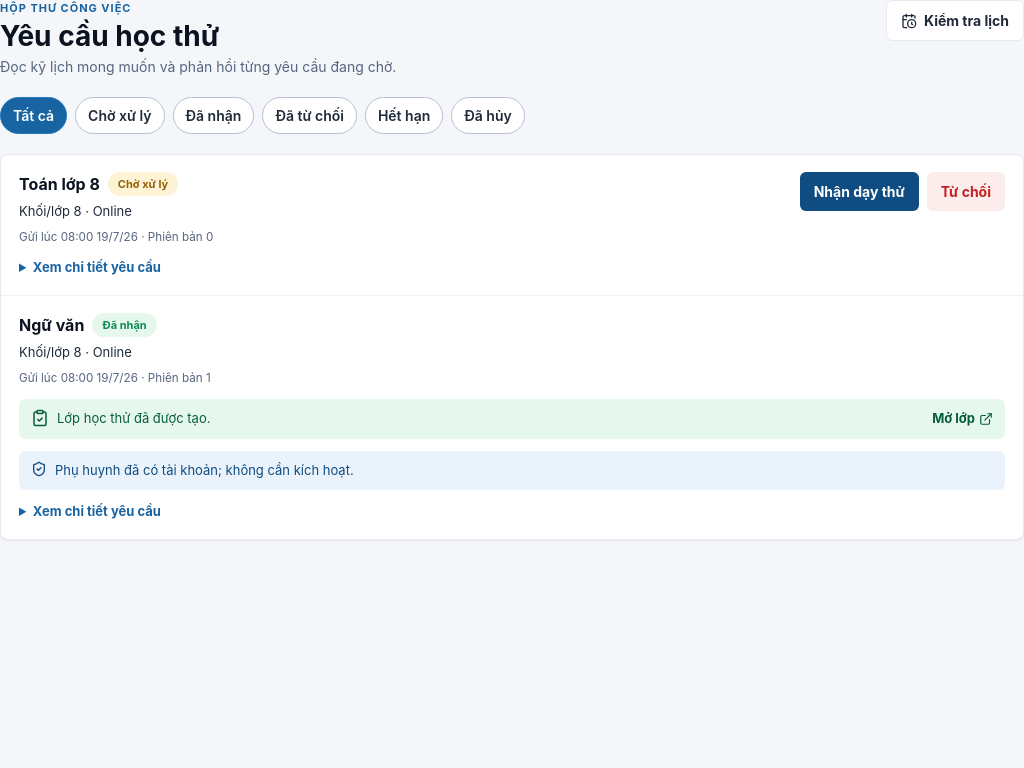
TrialsPage › renders safe detail, manual schedule warning, and actions only for pending
The width and height of the screenshot is (1024, 768).
Expected: the heading "Toán lớp 8" is shown, x1=19 y1=172 x2=100 y2=196
Expected: the number of buttons "Nhận dạy thử" is 1, x1=800 y1=172 x2=919 y2=210
Click the heading "Xem chi tiết yêu cầu" below "Toán lớp 8": [90, 268] box x1=19 y1=258 x2=161 y2=278
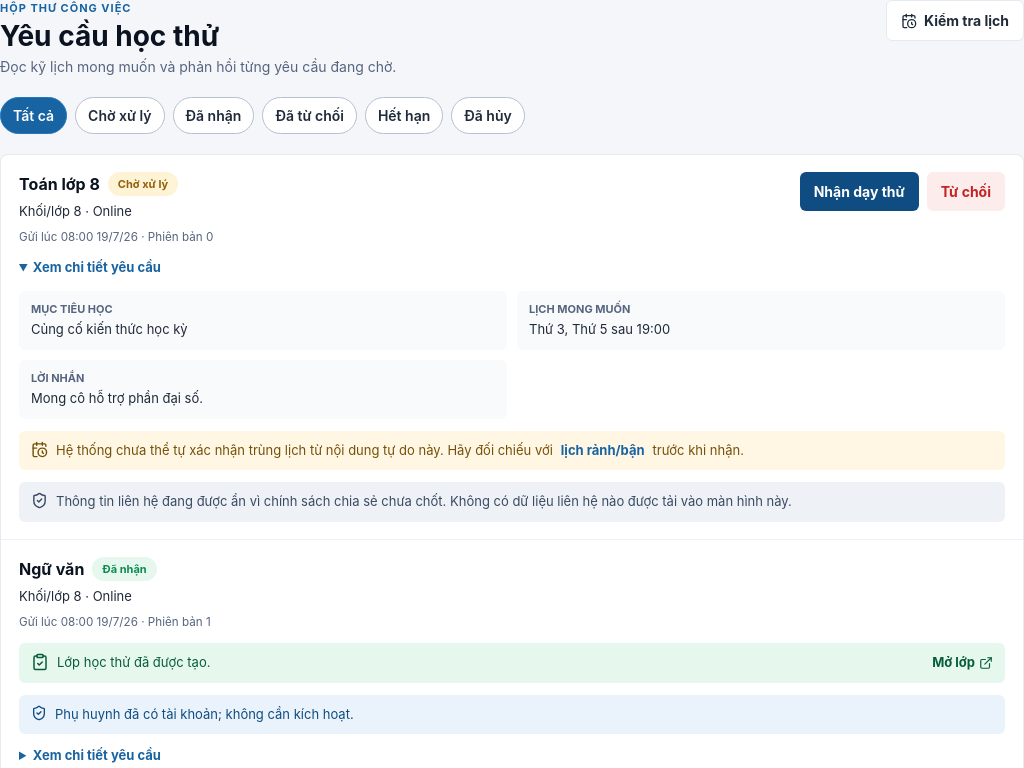
Now the text "chưa thể tự xác nhận trùng lịch" is shown, box x1=56 y1=442 x2=553 y2=458
Now the text "Không có dữ liệu liên hệ nào được tải" is shown, box x1=56 y1=493 x2=792 y2=509
